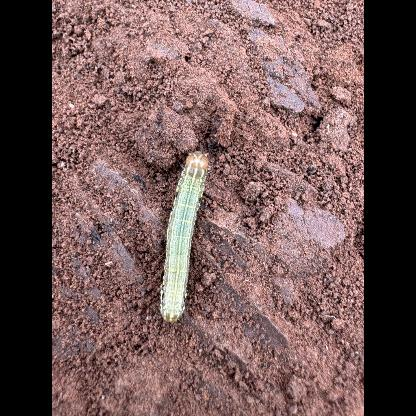Fall Armyworm Larvae: (155, 148, 215, 326)
